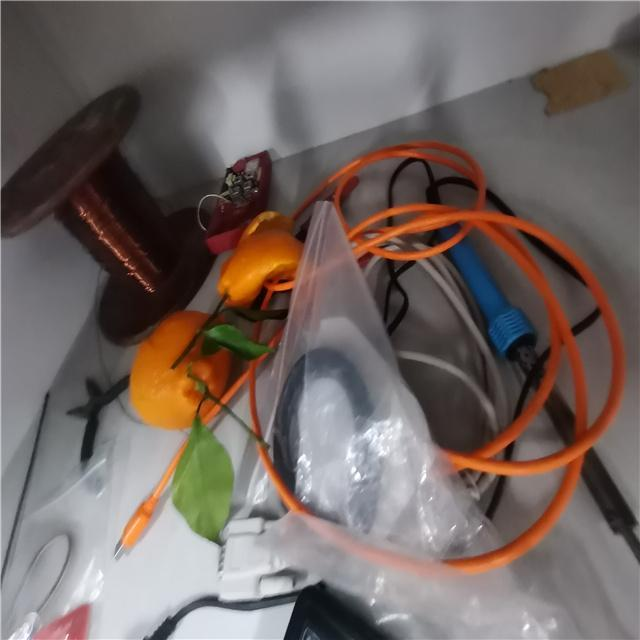orange-peel: (175, 208, 308, 364)
